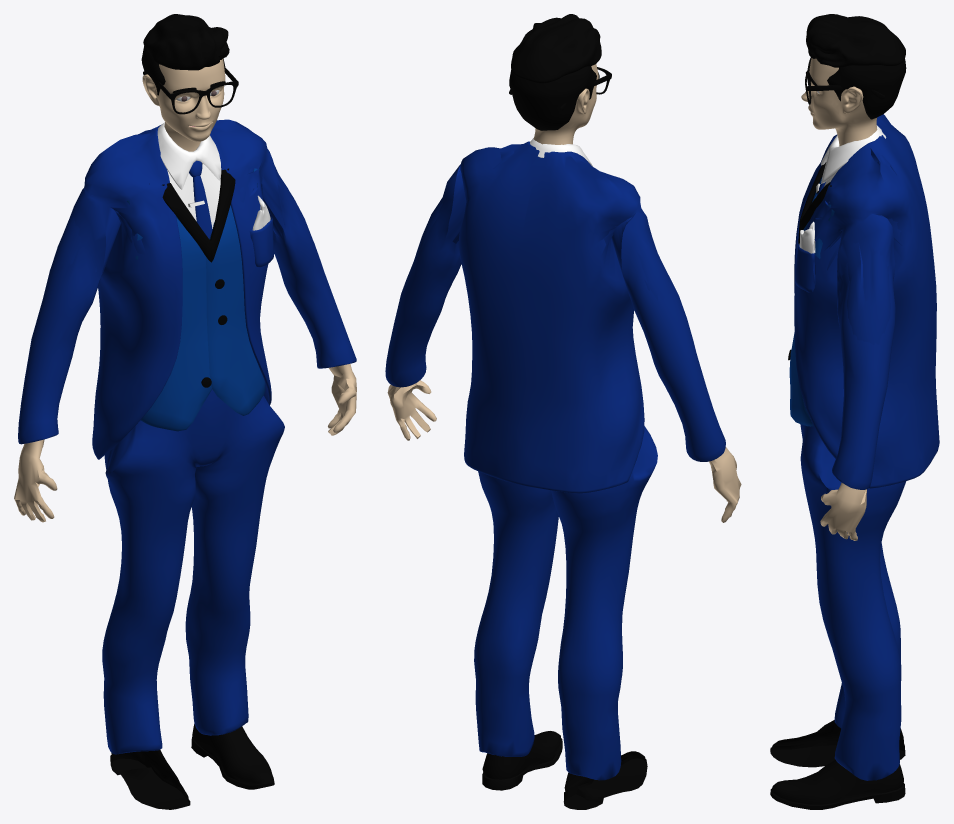
File: profe-fer.glb
The picture shows the model from 3 angles, left to right: view 1: azimuth 30°, elevation 25°; view 2: azimuth 150°, elevation 25°; view 3: azimuth 270°, elevation 25°; orthographic projection.
Parts seen in each view (by area): view 1: character; view 2: character; view 3: character.
Boxes of the visible parts, x1=… form: character: x1=14, y1=14, x2=356, y2=809; character: x1=385, y1=14, x2=741, y2=809; character: x1=770, y1=14, x2=939, y2=809.
Size of the model in its own units: 0.4771 by 0.9999 by 0.2019.
